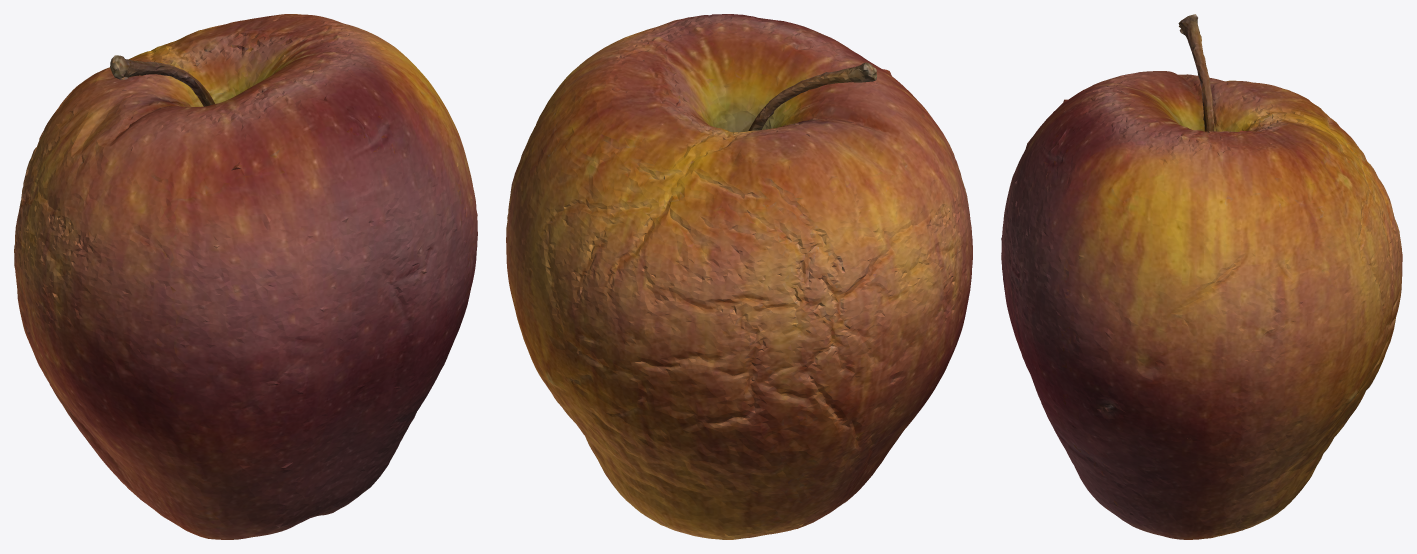
The picture shows the model from 3 angles, left to right: view 1: azimuth 30°, elevation 25°; view 2: azimuth 150°, elevation 25°; view 3: azimuth 270°, elevation 25°; orthographic projection. The views are drawn at different scales.
Parts seen in each view (by area): view 1: Apple_00_Apple_0_u1_v1_0; view 2: Apple_00_Apple_0_u1_v1_0; view 3: Apple_00_Apple_0_u1_v1_0.
Part boxes in pixels (box(x1,y1,x2,y2)): Apple_00_Apple_0_u1_v1_0: box(14, 14, 477, 539); Apple_00_Apple_0_u1_v1_0: box(506, 14, 972, 539); Apple_00_Apple_0_u1_v1_0: box(1001, 14, 1402, 539).
Bounding box in the file's own units: 19.86 × 22.06 × 18.62.
Materials: 1 (1 with a texture image).
